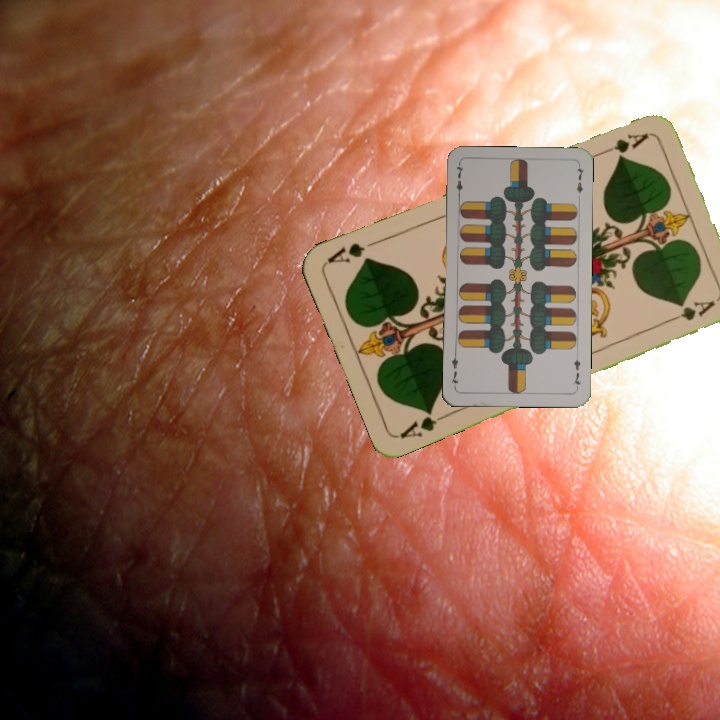E7: (452, 161, 466, 201), (569, 355, 584, 391)
GA: (395, 405, 452, 442), (593, 128, 651, 159)
